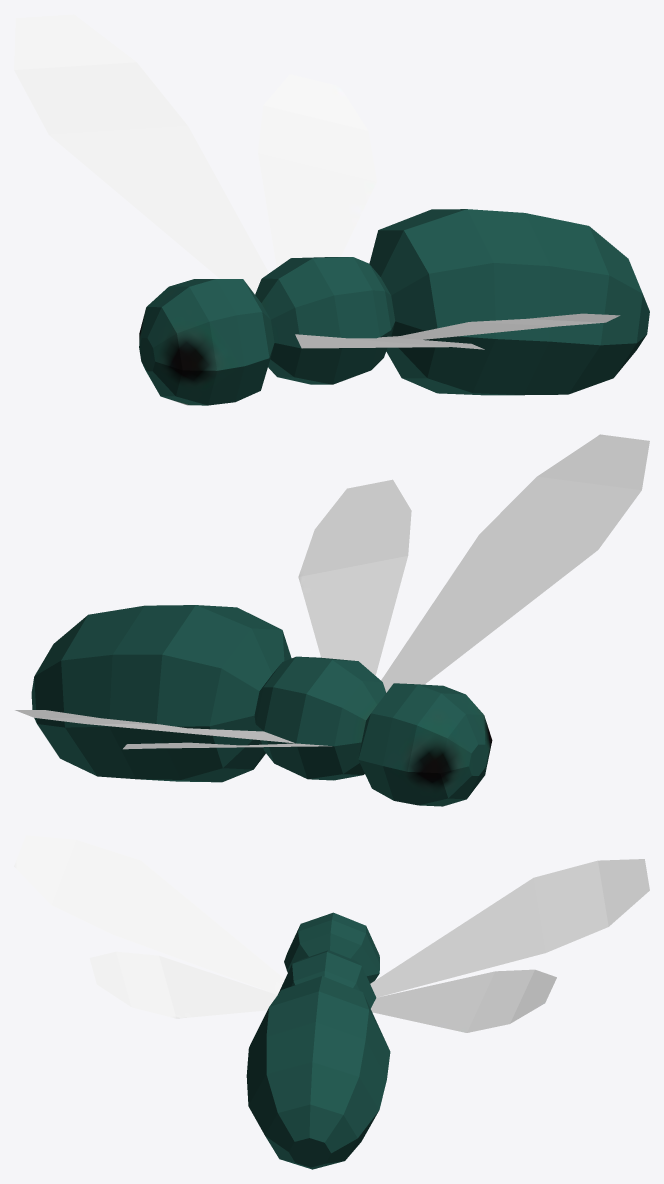
The model's file is dfly.gltf.
The picture shows the model from 3 angles, top to bottom: view 1: azimuth 30°, elevation 25°; view 2: azimuth 150°, elevation 25°; view 3: azimuth 270°, elevation 25°; orthographic projection. The views are drawn at different scales.
Visible parts, largest first — view 1: dragonfly; view 2: dragonfly; view 3: dragonfly.
Part boxes in pixels (x1,y1,x2,y2): dragonfly: (14, 14, 649, 405); dragonfly: (15, 434, 649, 806); dragonfly: (14, 835, 649, 1169).
Bounding box in the file's own units: 0.3658 × 0.2088 × 0.5911.
Materials: 1 (1 with a texture image).
